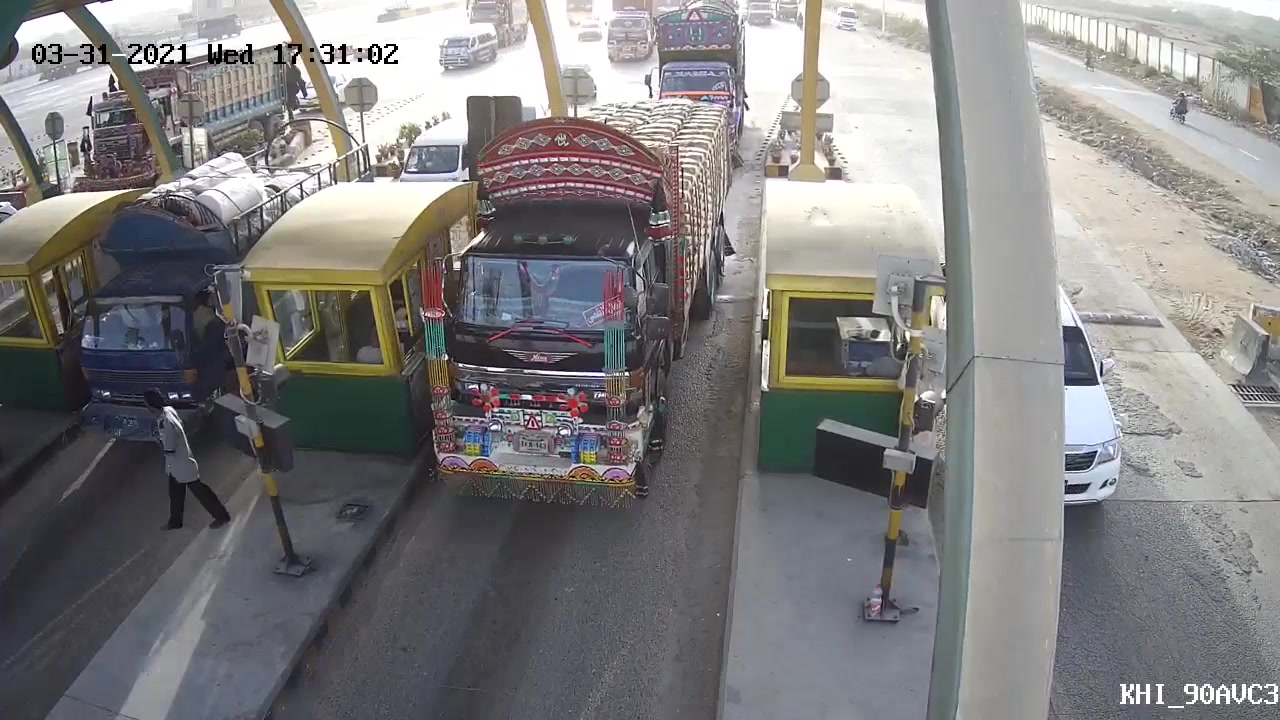F5: (420, 95, 737, 522)
